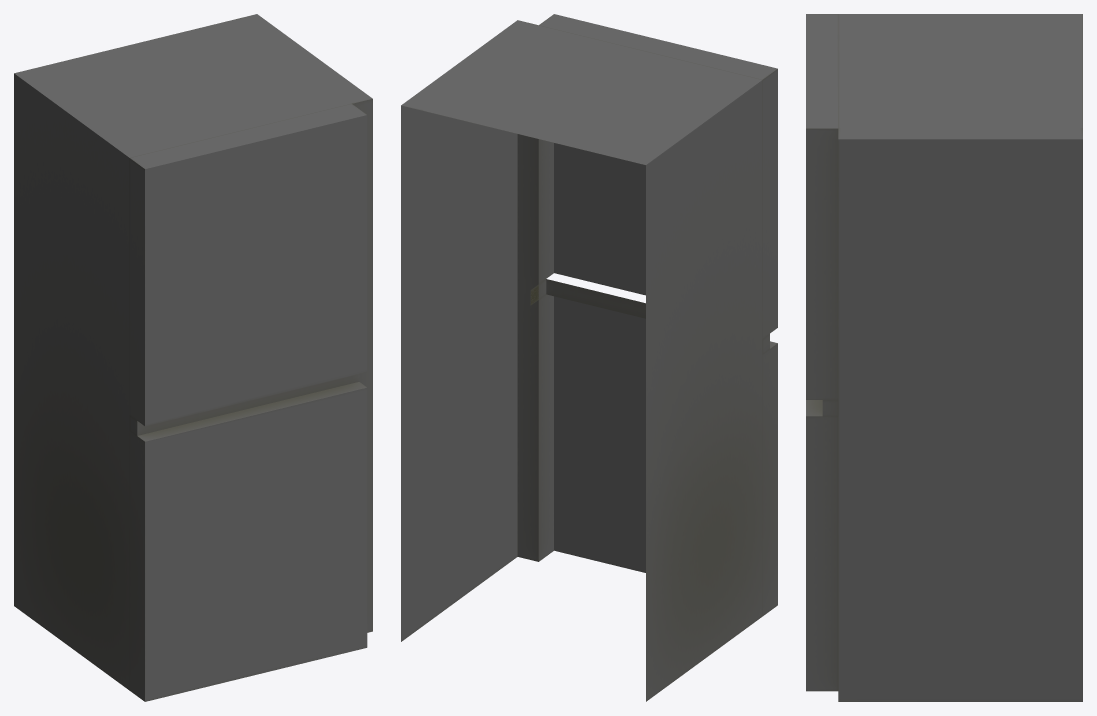
File: Fridge.fbx
3 views of the same model, side by side, from view 1: azimuth 30°, elevation 25°; view 2: azimuth 150°, elevation 25°; view 3: azimuth 270°, elevation 25° (orthographic). The views are drawn at different scales.
Parts seen in each view (by area): view 1: Fridge; view 2: Fridge; view 3: Fridge.
Boxes of the visible parts, x1,y1,x2,y2 form: Fridge: [14, 14, 372, 701]; Fridge: [401, 14, 777, 701]; Fridge: [806, 14, 1082, 701].
Size of the model in its own units: 47.76 by 100 by 44.58.
1 material, 1 textured.
